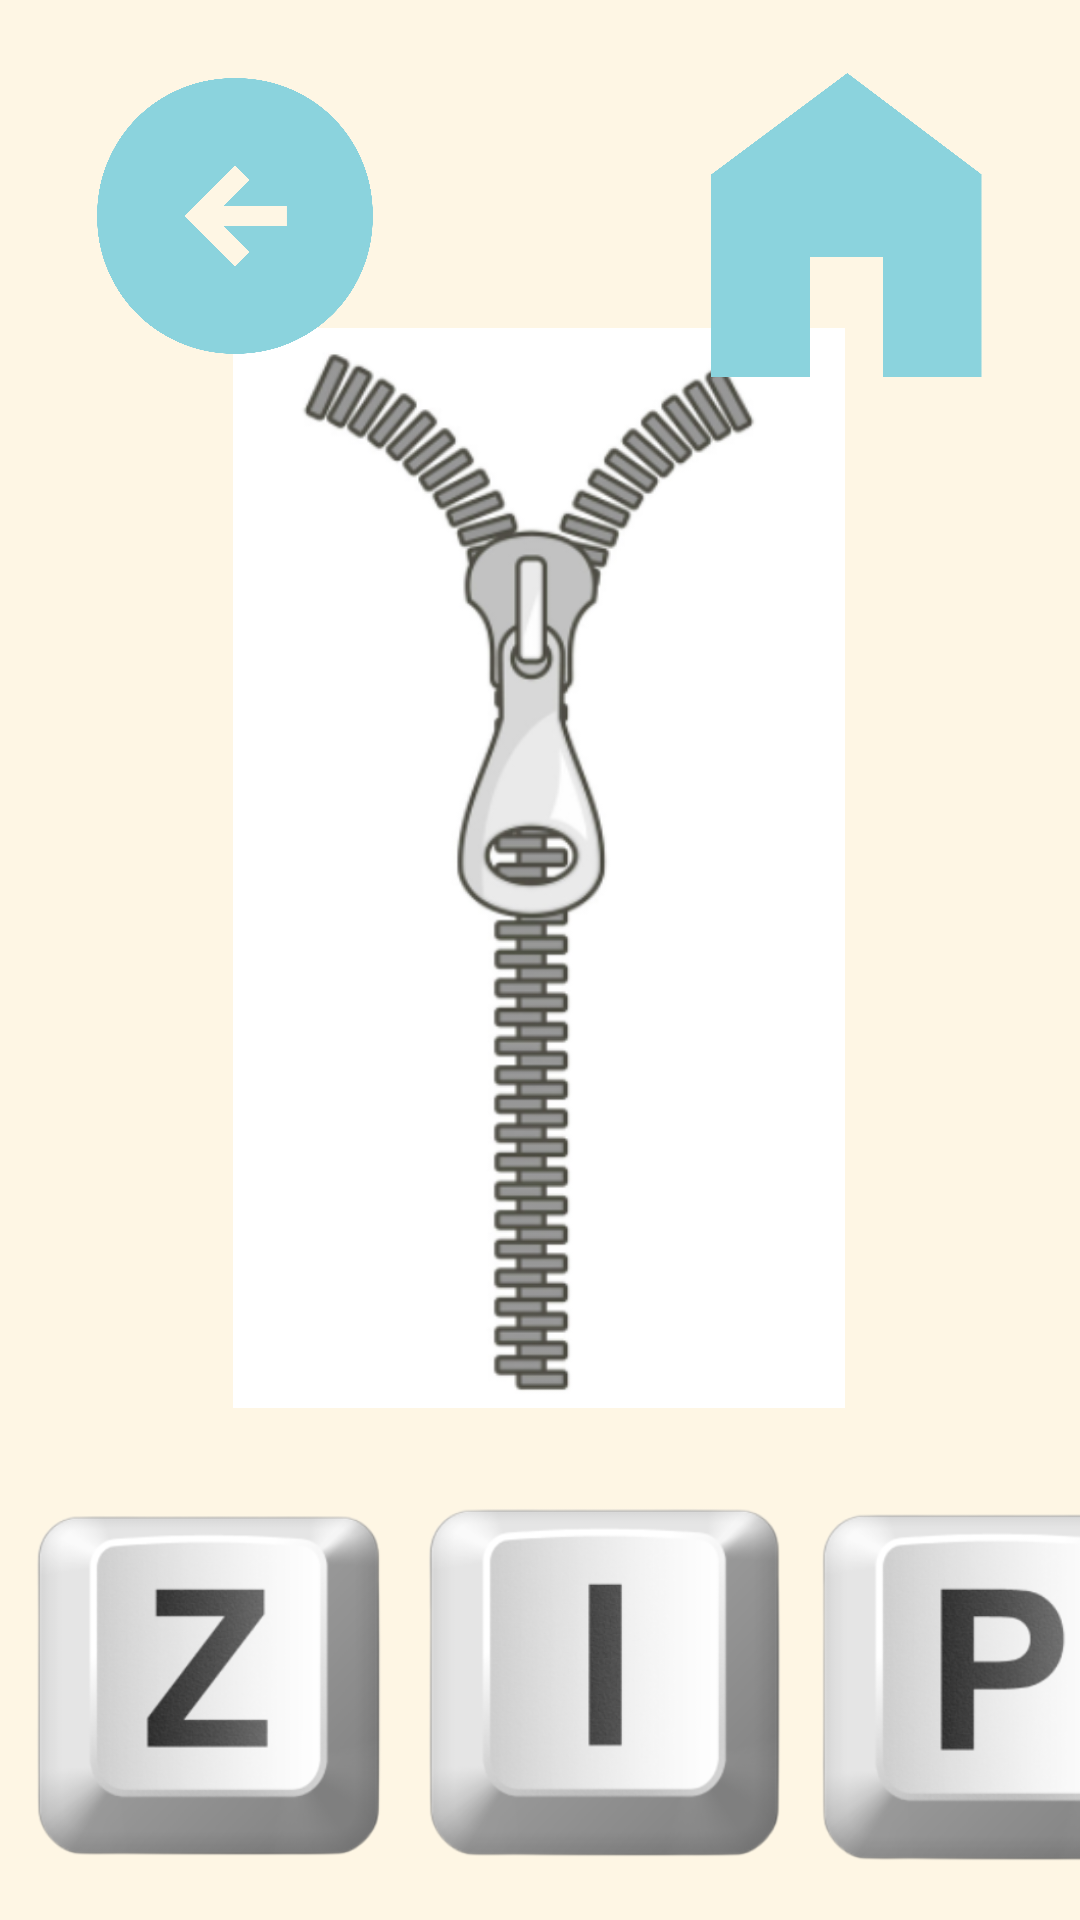

Point at icon controls on the screen. Image size 1080×1920, points as (x,y).
back: (274,219)
home: (823,226)
